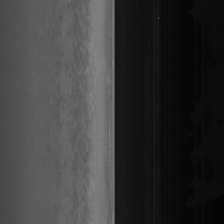silk_spot: (71, 14, 94, 196)
